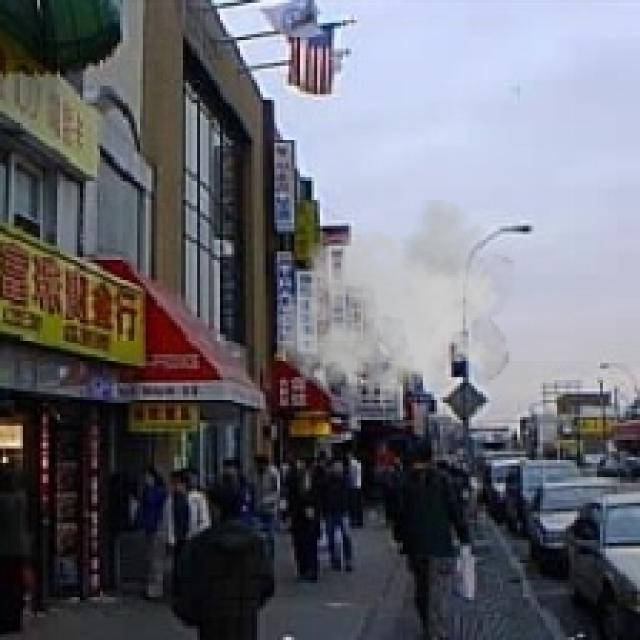smoke: (274, 200, 514, 420)
